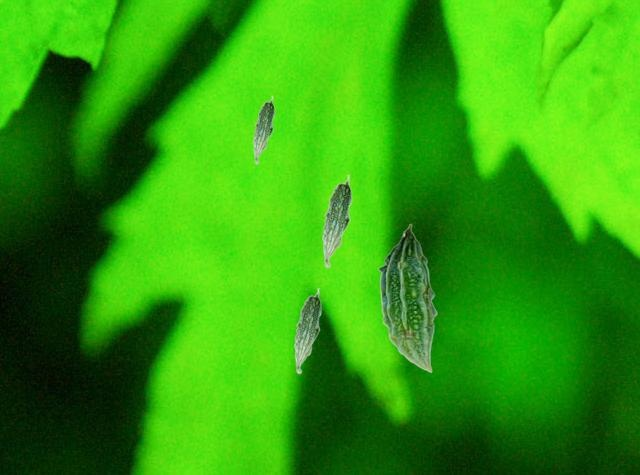ampalaya: (377, 223, 437, 373), (322, 174, 352, 268), (293, 287, 322, 374), (252, 95, 275, 164)
